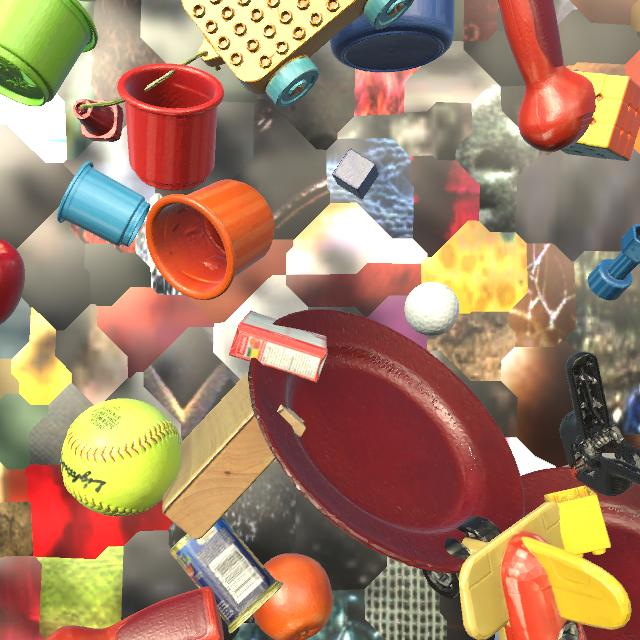ycb_009_gelatin_box: (229, 311, 328, 383)
ycb_010_potted_meat_can: (170, 516, 284, 634)
ycb_013_apple: (0, 239, 25, 325)
ycb_017_orange: (253, 553, 333, 640)
